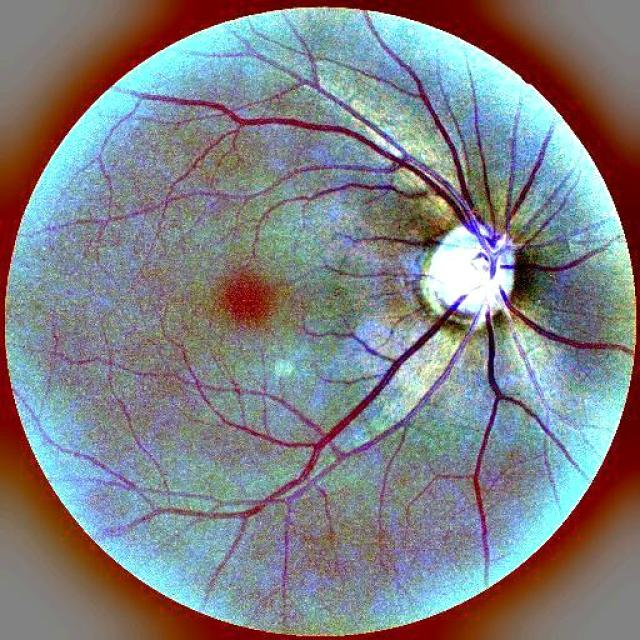Macula: (218, 274, 278, 326)
Nerves: (128, 40, 557, 276), (138, 291, 470, 535), (469, 315, 573, 574), (494, 279, 622, 359)
Optic Disk: (420, 219, 515, 329)
